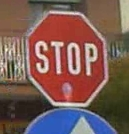stop: (20, 9, 110, 107)
